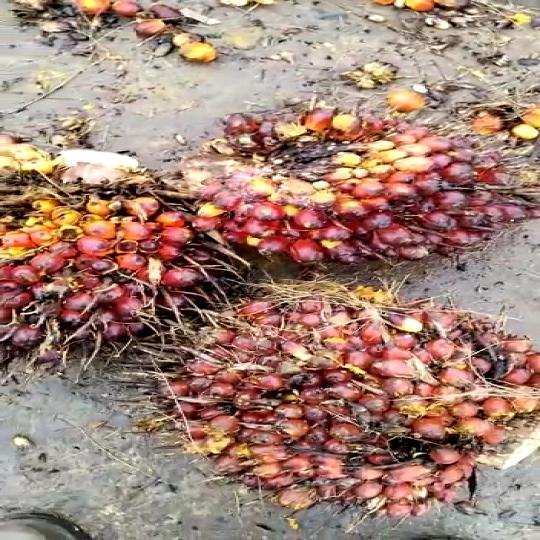masak: (132, 289, 540, 512), (179, 84, 540, 270), (0, 132, 257, 355)
